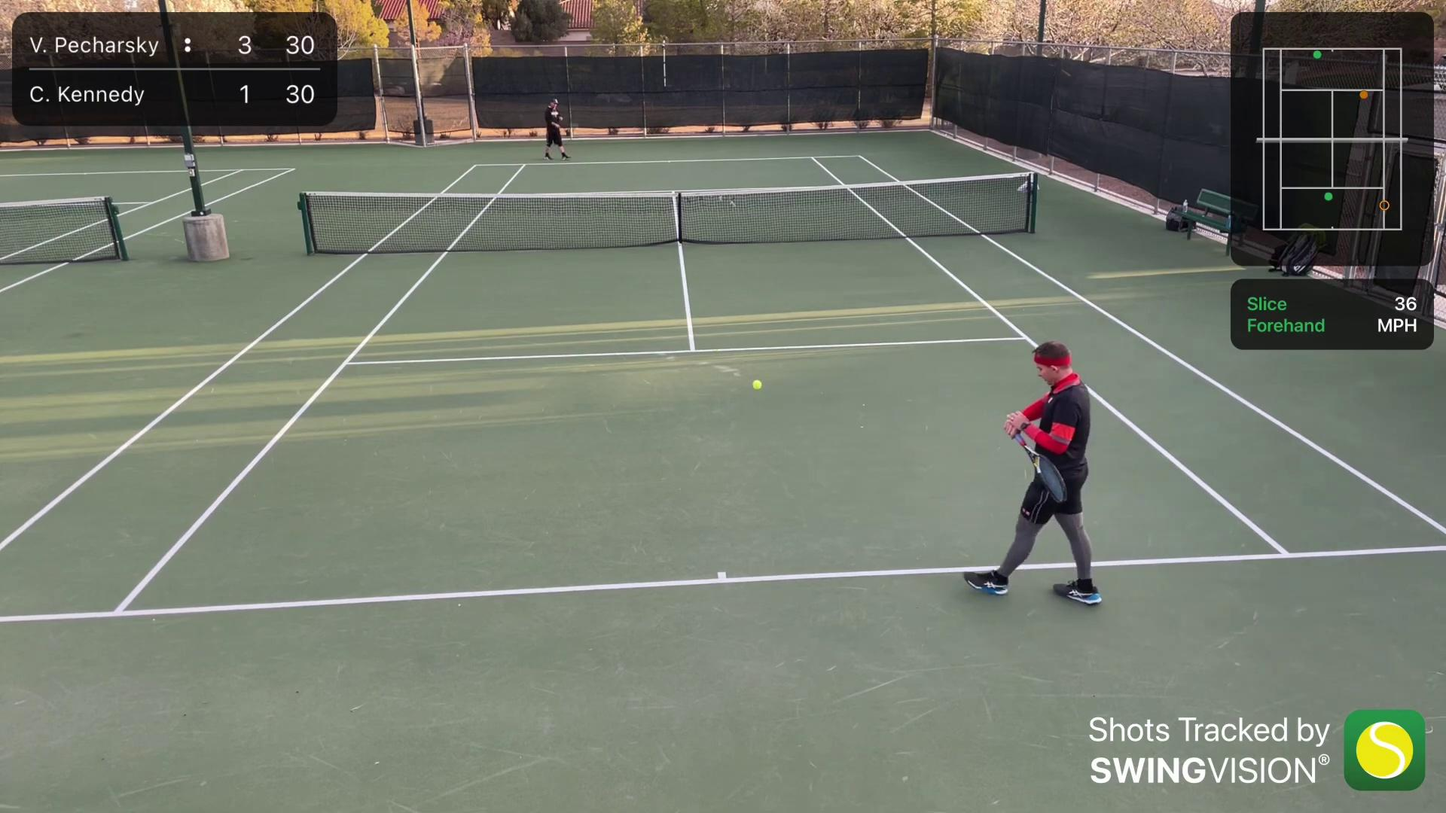ball: (750, 379, 763, 391), (338, 363, 345, 371)
